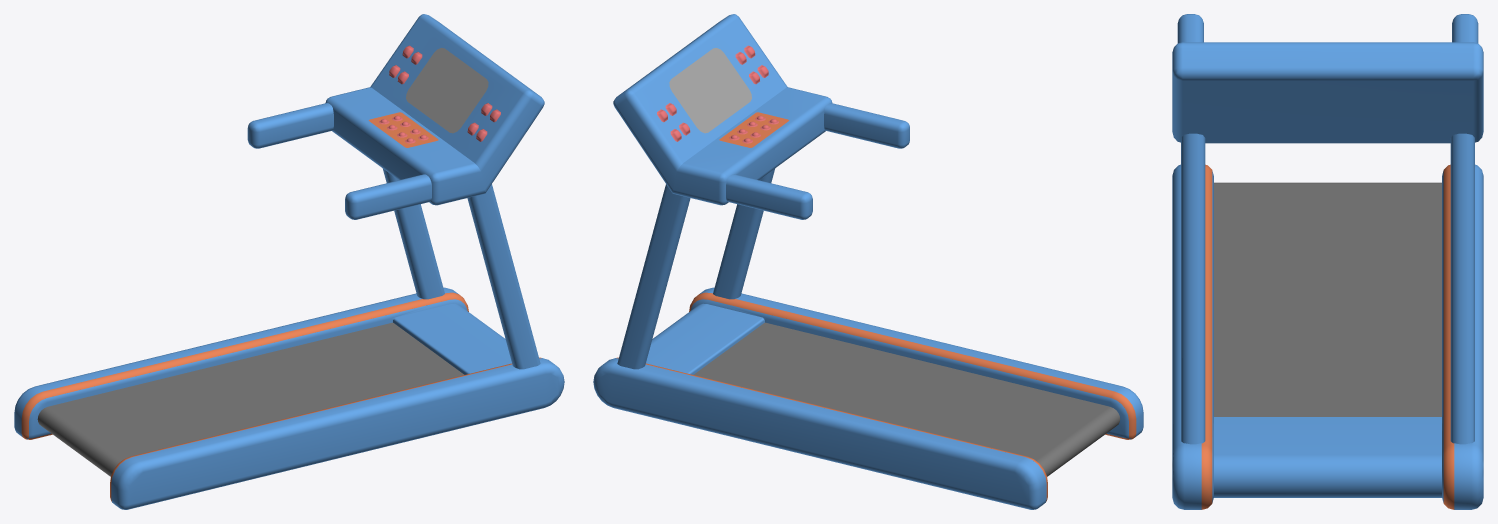
3 views of the same model, side by side, from view 1: azimuth 30°, elevation 25°; view 2: azimuth 150°, elevation 25°; view 3: azimuth 270°, elevation 25° (orthographic). The views are drawn at different scales.
Visible parts, largest first — view 1: Treadmill_01; view 2: Treadmill_01; view 3: Treadmill_01.
Boxes of the visible parts, box(x1,y1,x2,y2) form: Treadmill_01: box(14, 14, 564, 509); Treadmill_01: box(593, 14, 1143, 509); Treadmill_01: box(1172, 14, 1483, 509).
Size of the model in its own units: 2.1 by 1.45 by 0.9.
